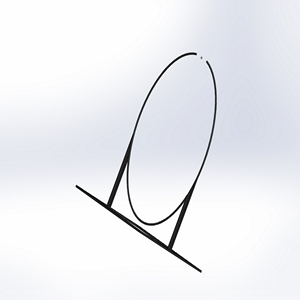circle: (72, 48, 218, 275)
